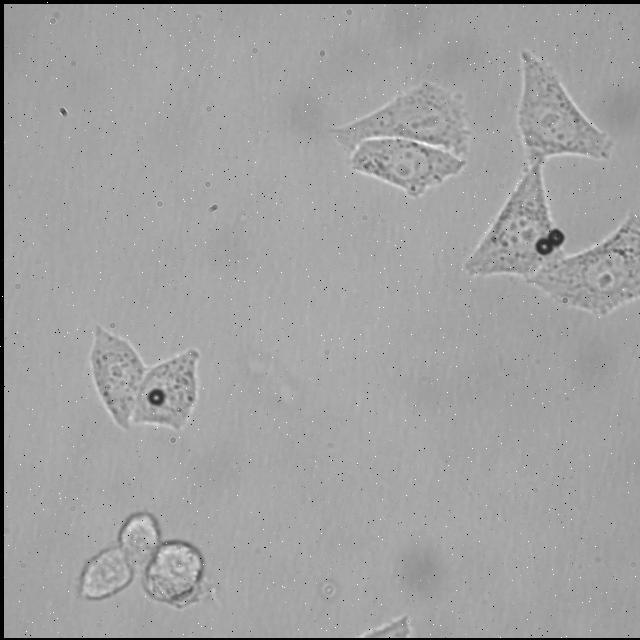microbeads: (536, 232, 554, 254), (145, 388, 165, 407), (544, 227, 562, 247)
